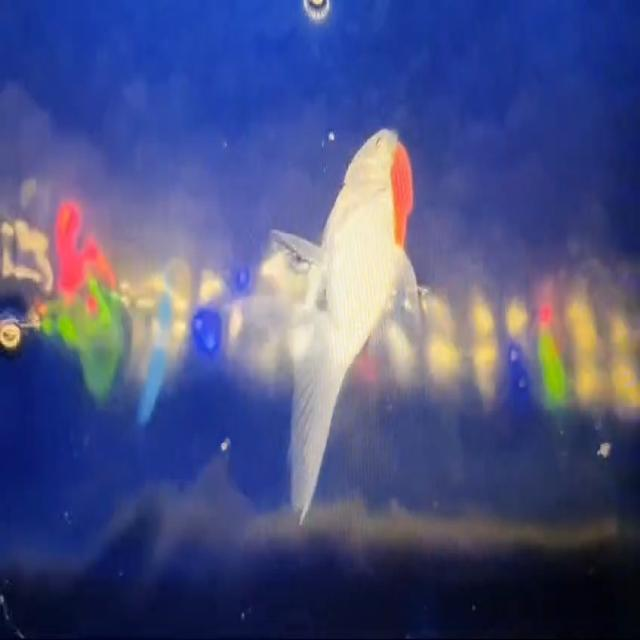fish: (242, 96, 420, 532)
